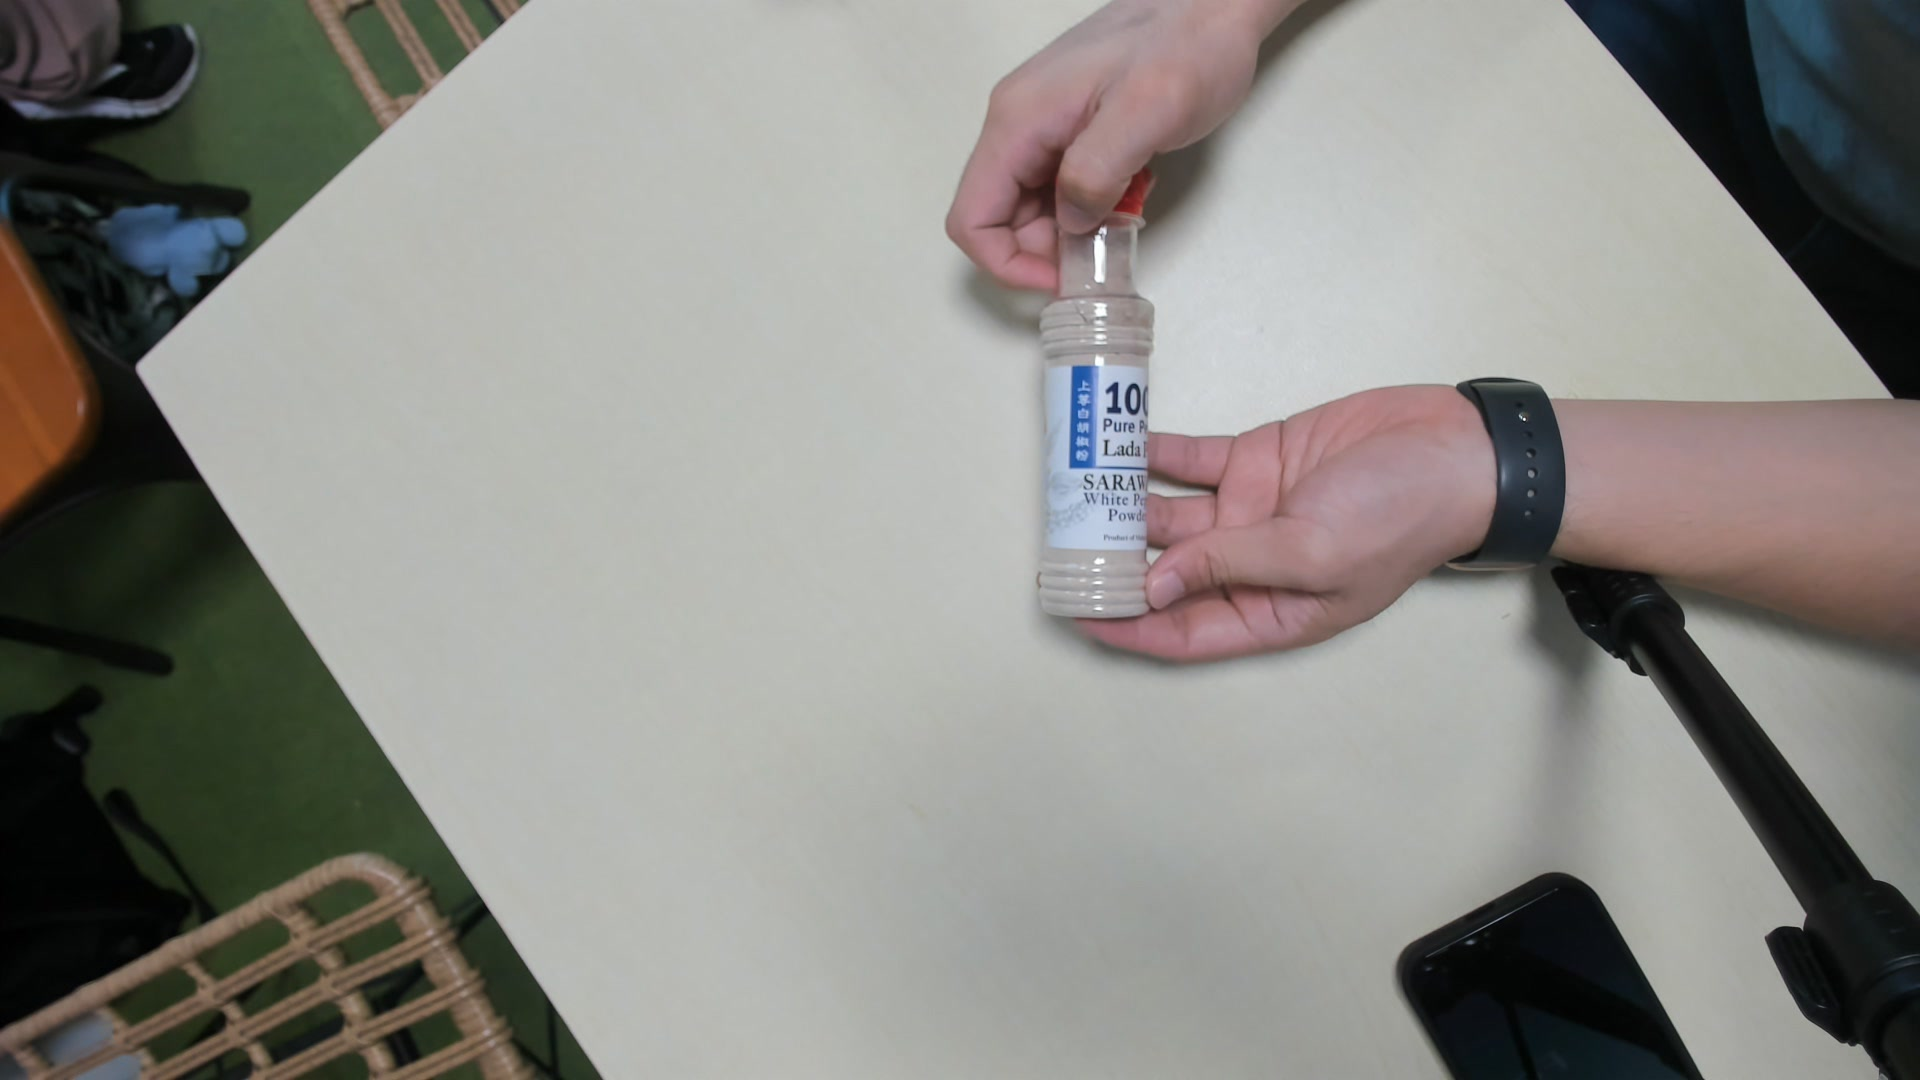HerbsSpicesPepper_0-99g_NonHalal_NonHealthy: (1033, 170, 1147, 616)
